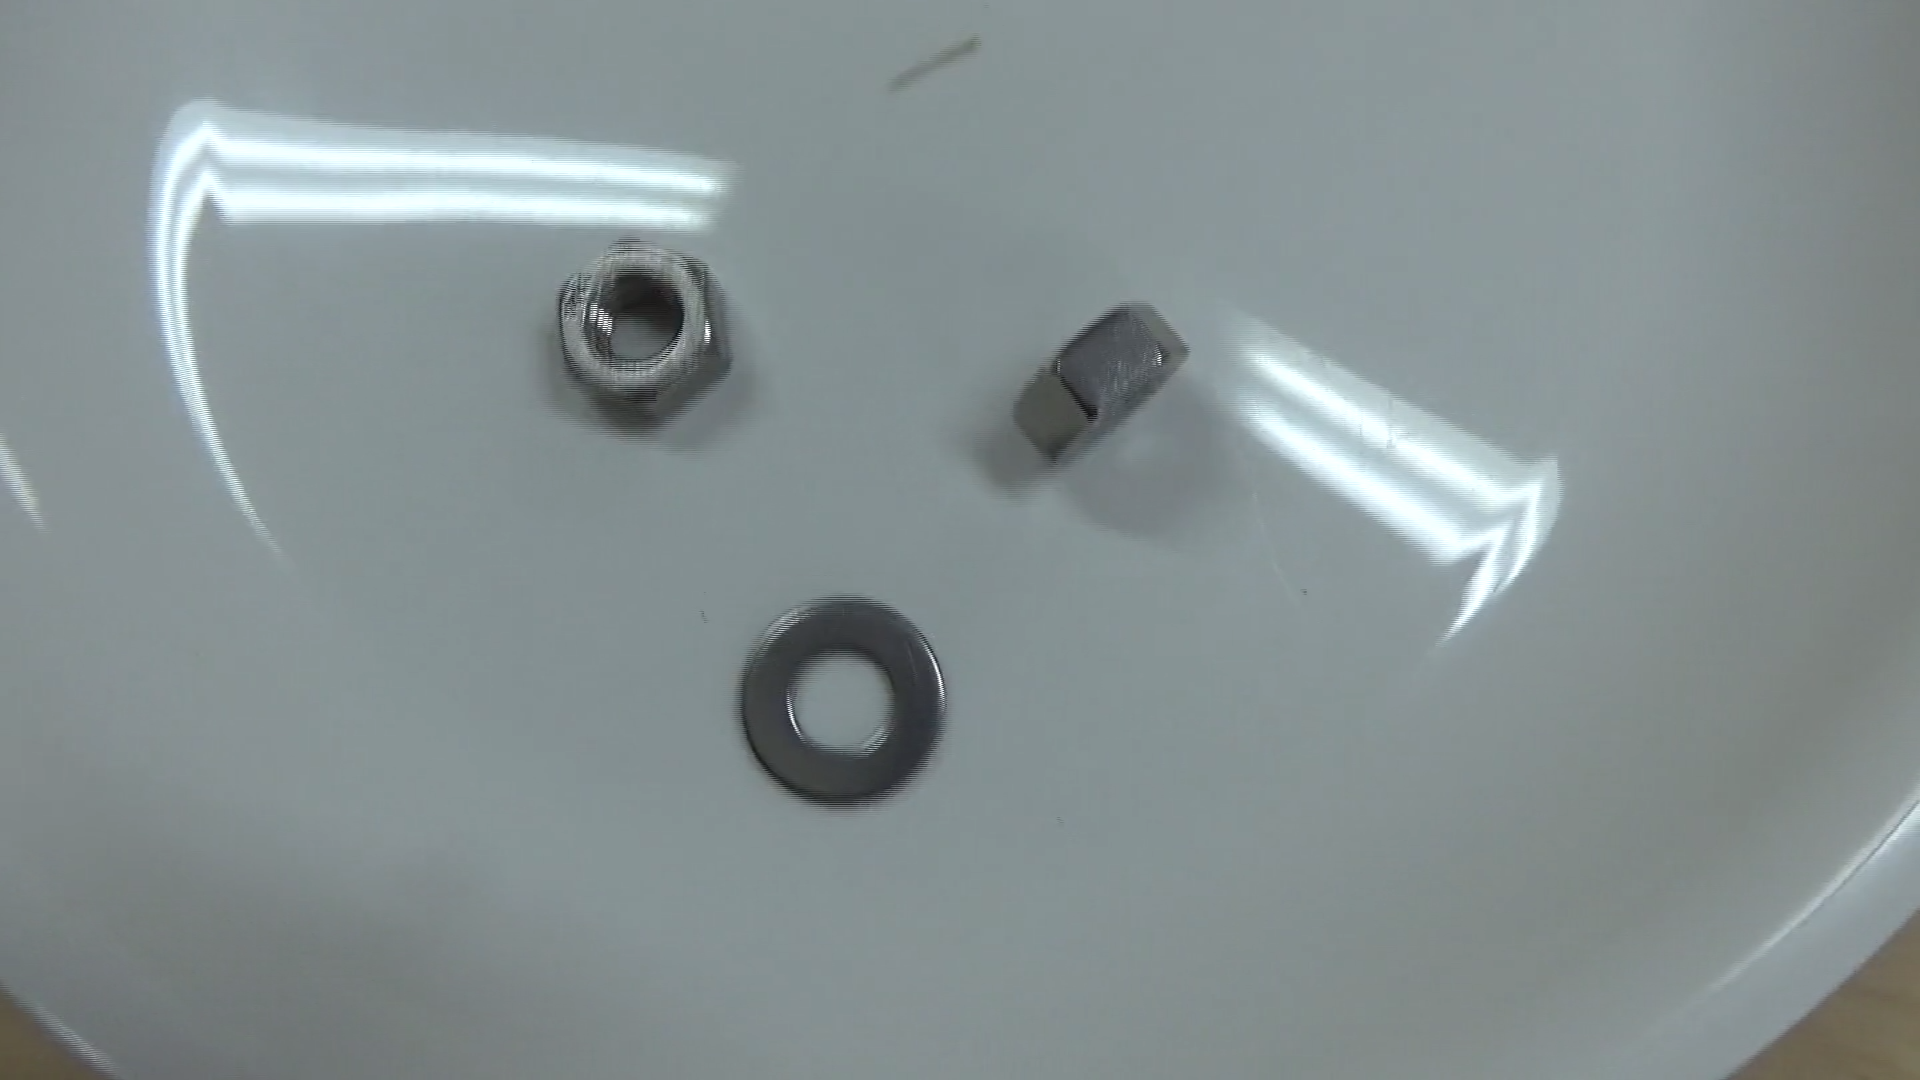nut: (530, 232, 737, 429), (1009, 282, 1191, 471)
washer: (723, 582, 959, 814)
